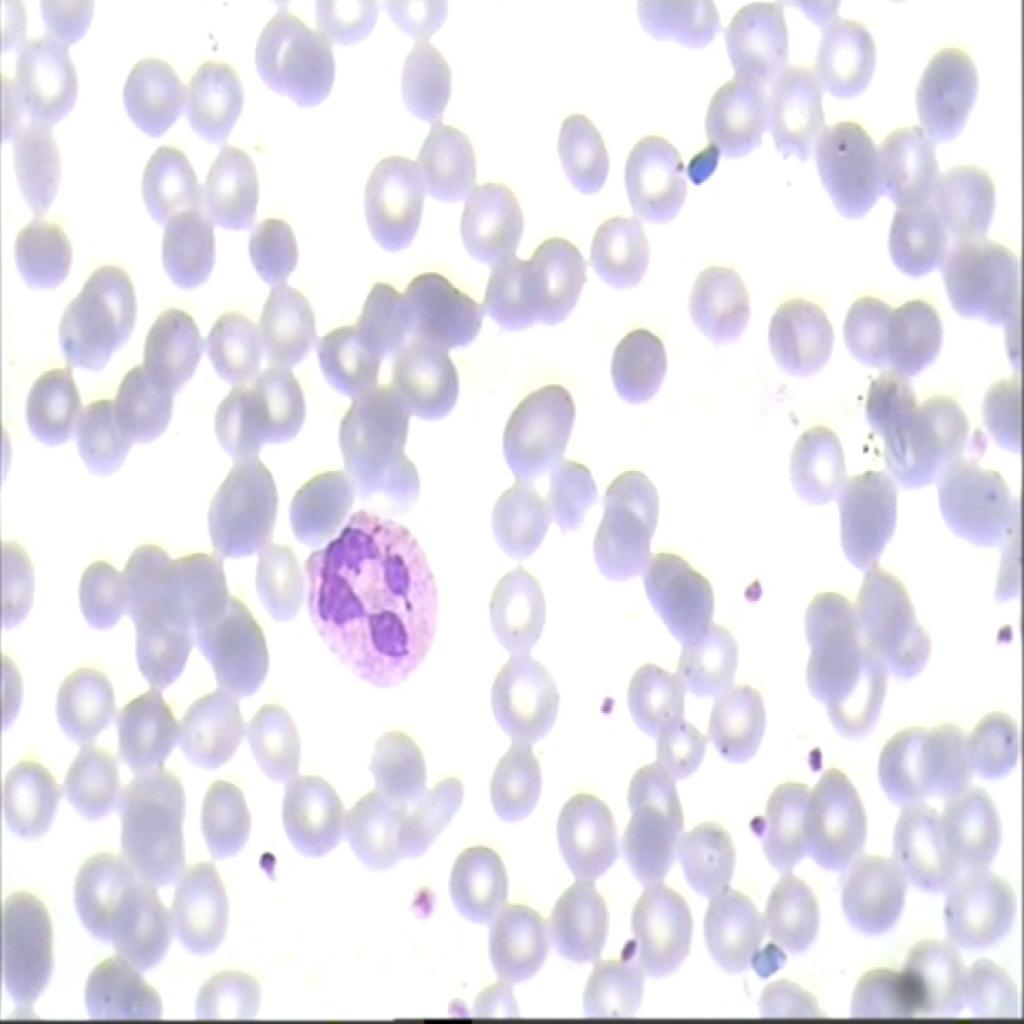Neutrofil: (290, 502, 442, 700)
Platelet: (747, 932, 795, 994), (614, 921, 646, 974), (395, 877, 434, 919), (592, 674, 624, 725), (799, 742, 838, 782), (996, 606, 1022, 654), (735, 809, 771, 837), (736, 567, 762, 605), (253, 843, 280, 873)
